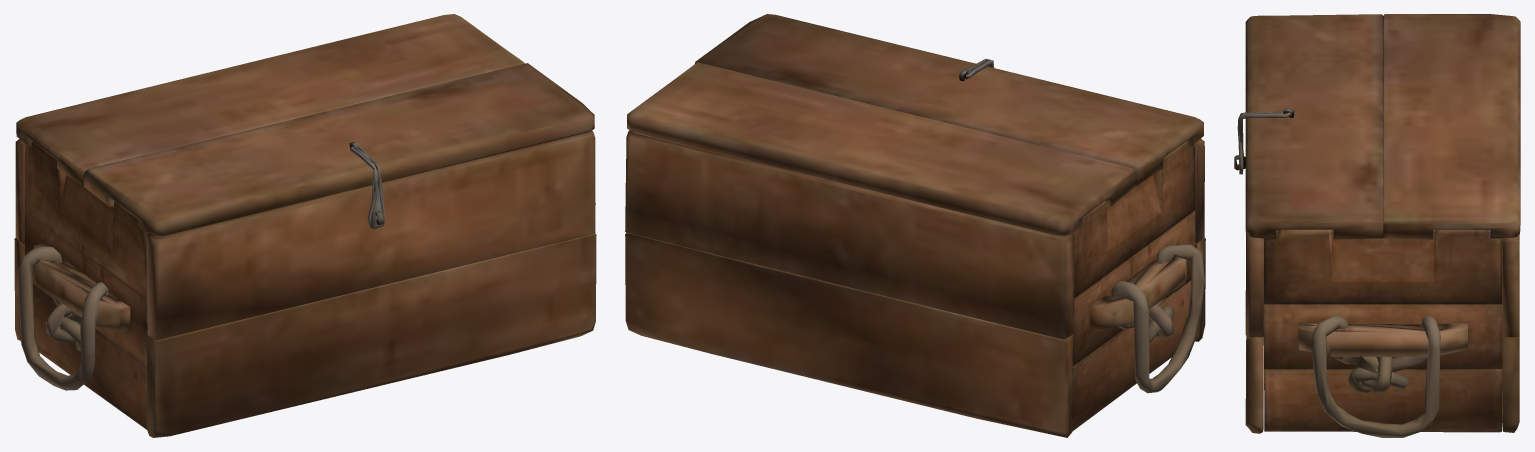
Rendered from wooden_crate_01.glb.
3 renders of one model, left to right at view 1: azimuth 30°, elevation 25°; view 2: azimuth 150°, elevation 25°; view 3: azimuth 270°, elevation 25°, orthographic. The views are drawn at different scales.
Visible parts, largest first — view 1: wooden_crate_01_lid, wooden_crate_01_lid_lo; view 2: wooden_crate_01_lid, wooden_crate_01_lid_lo; view 3: wooden_crate_01_lid, wooden_crate_01_lid_lo.
Part boxes in pixels (x1=…): wooden_crate_01_lid: x1=14, y1=14, x2=596, y2=437; wooden_crate_01_lid_lo: x1=23, y1=143, x2=383, y2=366; wooden_crate_01_lid: x1=625, y1=14, x2=1205, y2=437; wooden_crate_01_lid_lo: x1=961, y1=61, x2=1197, y2=424; wooden_crate_01_lid: x1=1234, y1=14, x2=1520, y2=437; wooden_crate_01_lid_lo: x1=1235, y1=111, x2=1516, y2=432.
Size of the model in its own units: 0.8245 by 0.3472 by 0.4069.
1 material, 1 textured.
